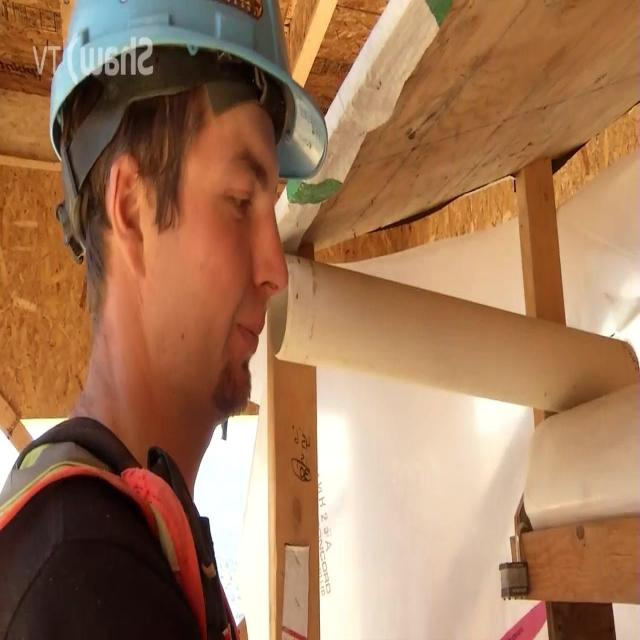Reflective-Jacket: (0, 403, 221, 640)
Safety-Helmet: (45, 0, 333, 211)
